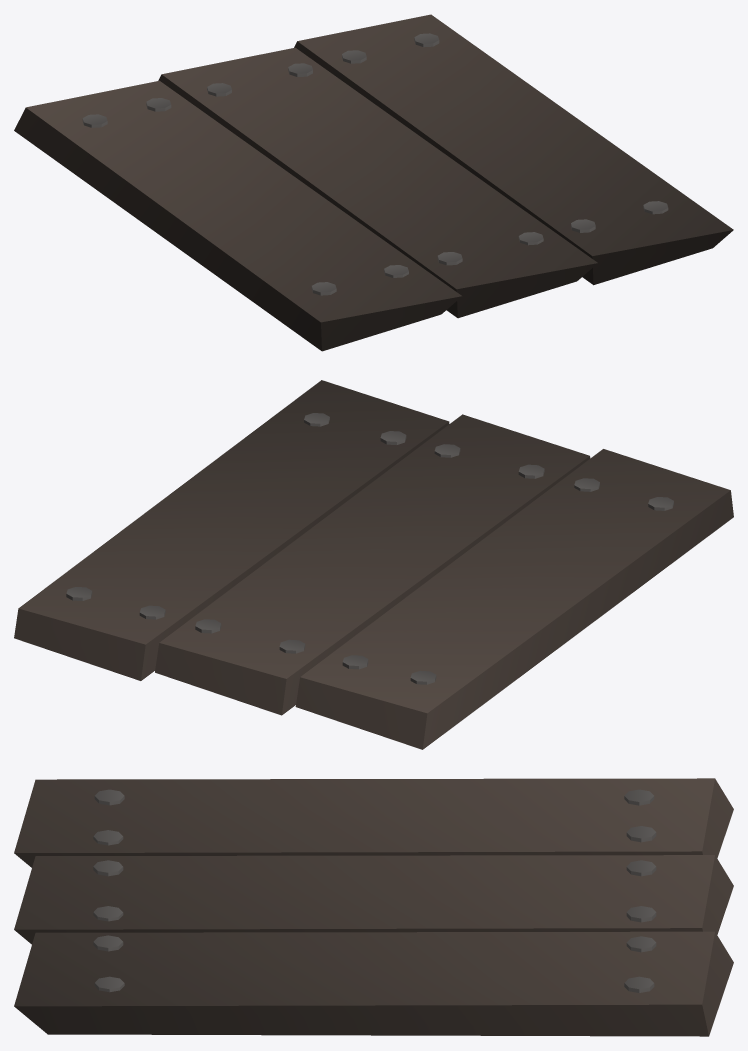
File: Ramp.fbx
3 renders of one model, top to bottom at view 1: azimuth 30°, elevation 25°; view 2: azimuth 150°, elevation 25°; view 3: azimuth 270°, elevation 25°, orthographic. The views are drawn at different scales.
Parts seen in each view (by area): view 1: Cube, Cylinder.006; view 2: Cube, Cylinder.006; view 3: Cube, Cylinder.006.
Boxes of the visible parts, x1,y1,x2,y2 form: Cube: [14, 14, 733, 351]; Cylinder.006: [82, 33, 668, 295]; Cube: [14, 380, 733, 749]; Cylinder.006: [66, 413, 673, 684]; Cube: [14, 778, 733, 1036]; Cylinder.006: [93, 789, 656, 992].
Size of the model in its own units: 136 by 9.96 by 180.
1 material, 1 textured.
